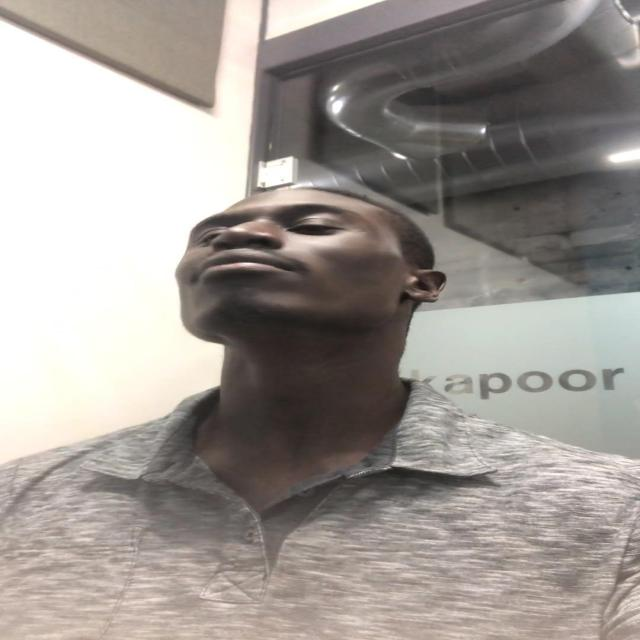face: (174, 196, 419, 341)
